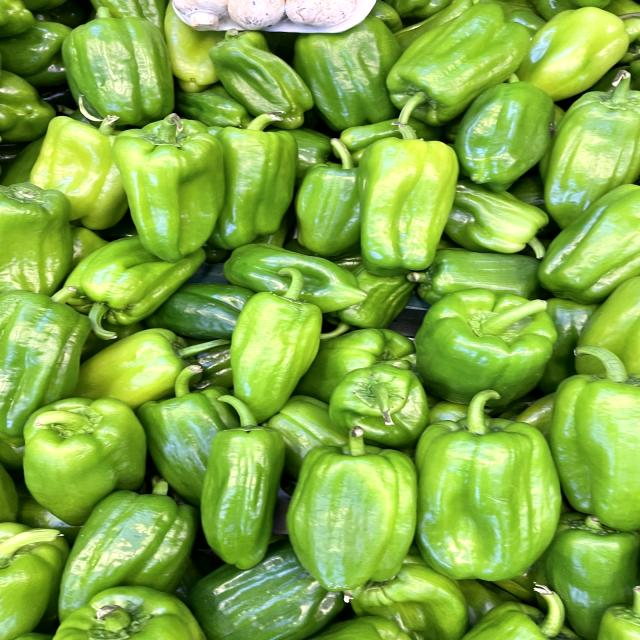bell pepper: (403, 383, 573, 585), (341, 98, 492, 284), (280, 412, 419, 595), (109, 101, 239, 272), (407, 281, 568, 413), (371, 3, 538, 129), (226, 260, 326, 429), (59, 10, 188, 121)
